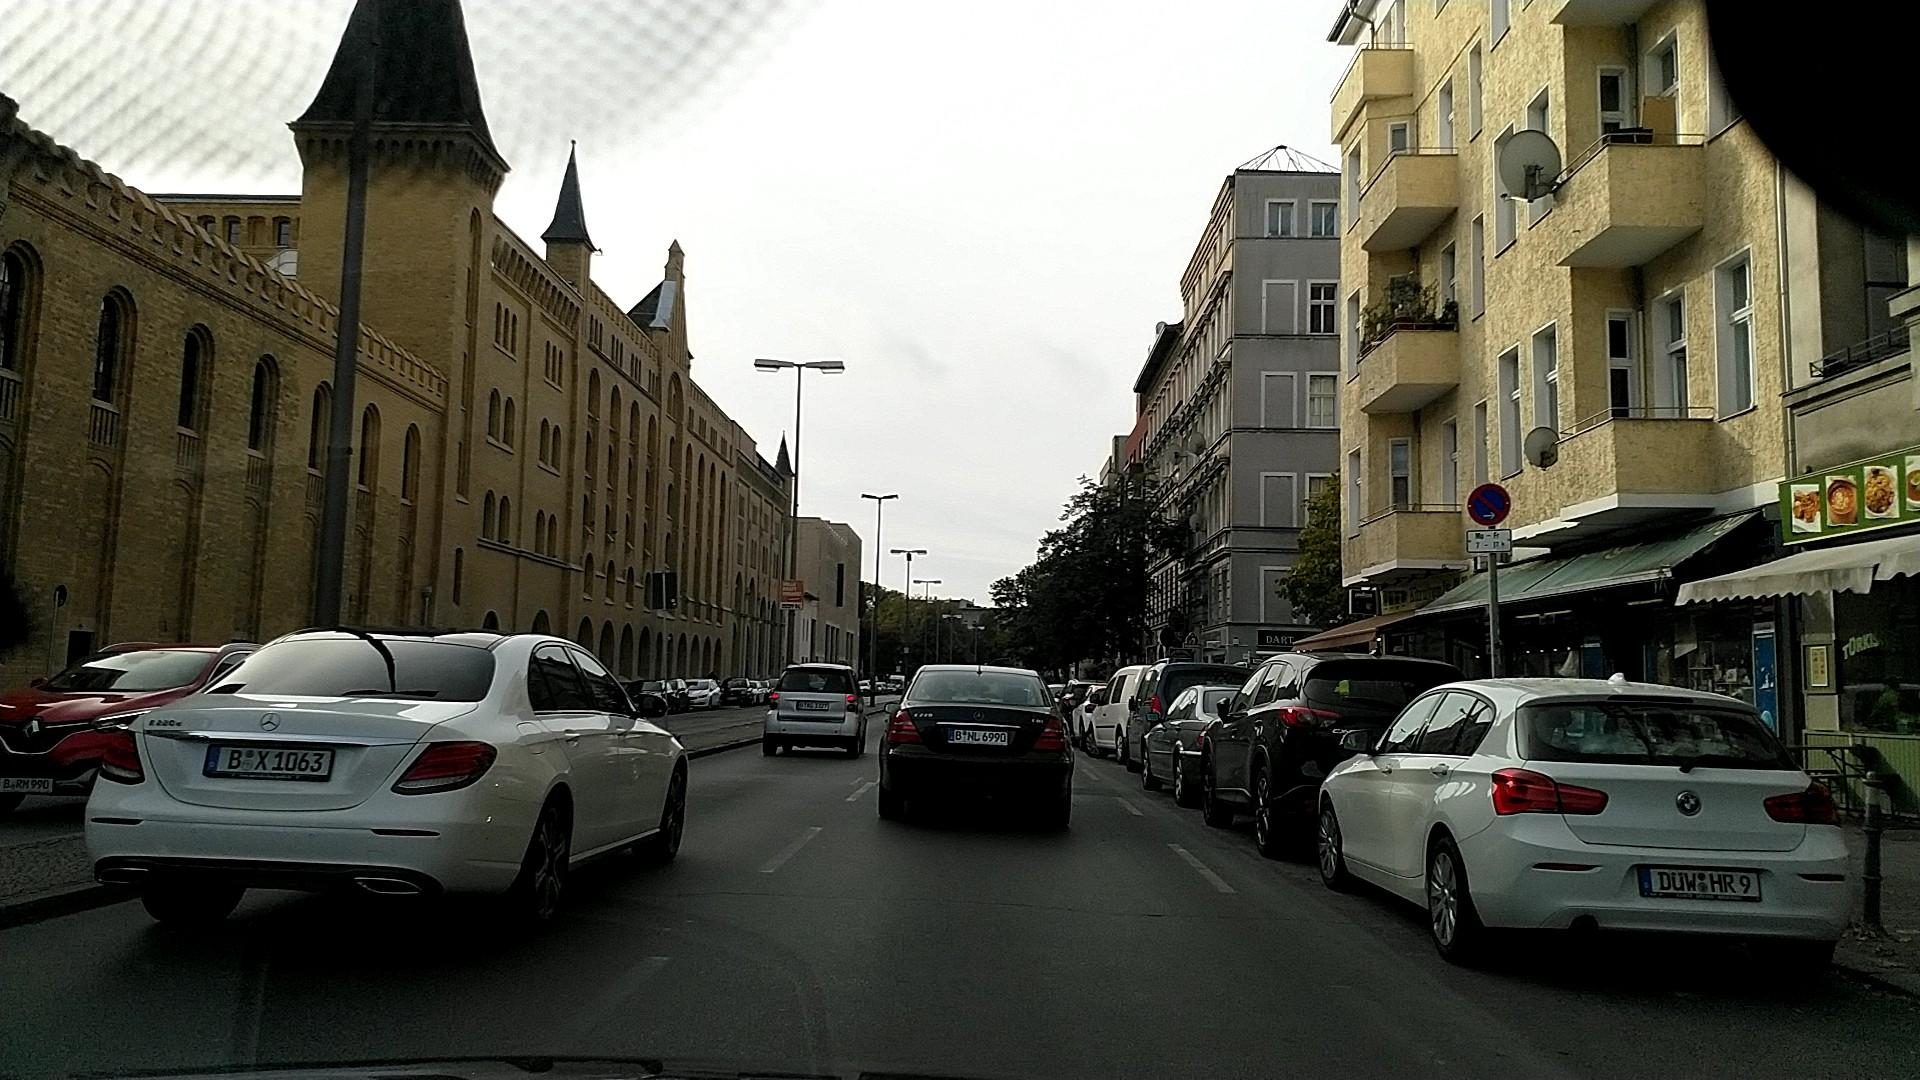Vehicle registration plate: (203, 744, 332, 780), (1637, 867, 1758, 900), (947, 727, 1007, 746), (1, 777, 52, 793), (797, 701, 829, 711)
